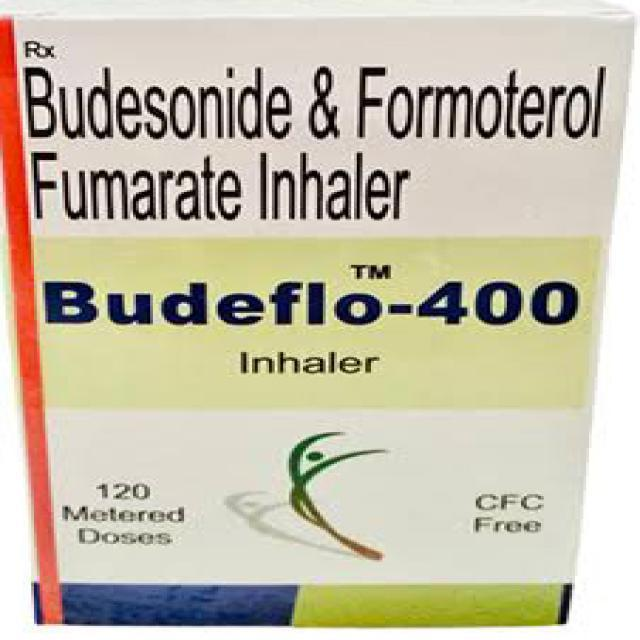drug-name: (42, 267, 581, 327)
